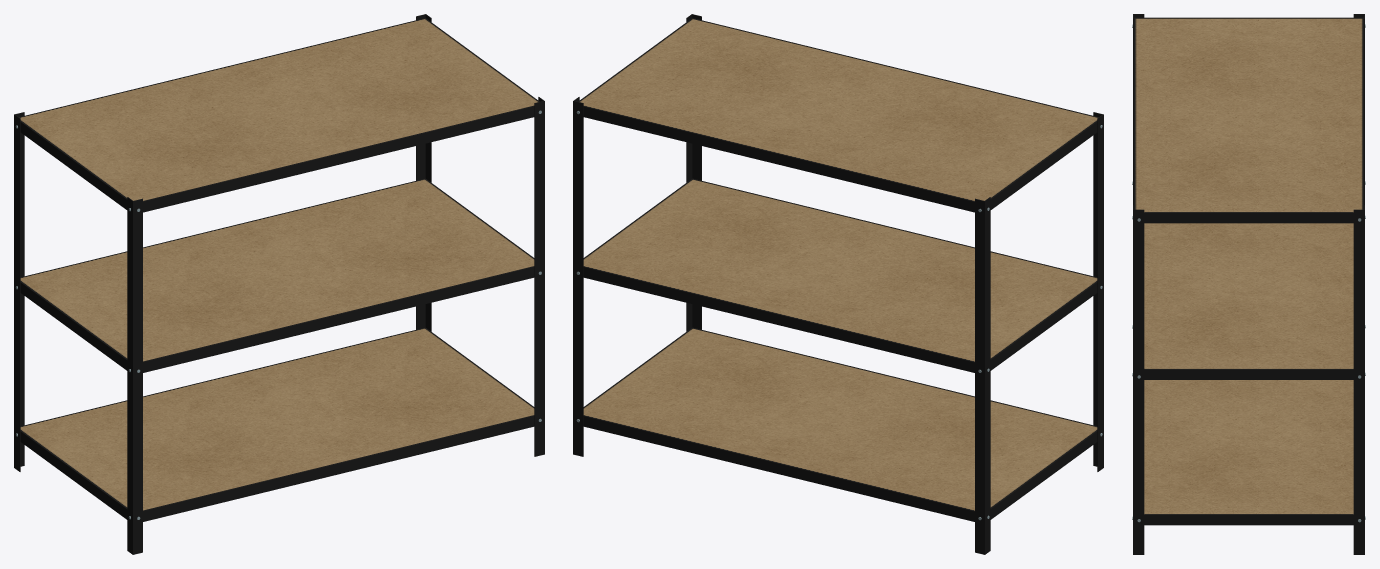
The model's file is Rack_1m.FBX.
3 views of the same model, side by side, from view 1: azimuth 30°, elevation 25°; view 2: azimuth 150°, elevation 25°; view 3: azimuth 270°, elevation 25° (orthographic). The views are drawn at different scales.
Visible parts, largest first — view 1: Rack001; view 2: Rack001; view 3: Rack001.
Boxes of the visible parts, x1=… form: Rack001: x1=14, y1=14, x2=544, y2=554; Rack001: x1=573, y1=14, x2=1103, y2=554; Rack001: x1=1132, y1=14, x2=1365, y2=554.
Bounding box in the file's own units: 122 × 100 × 61.36.
